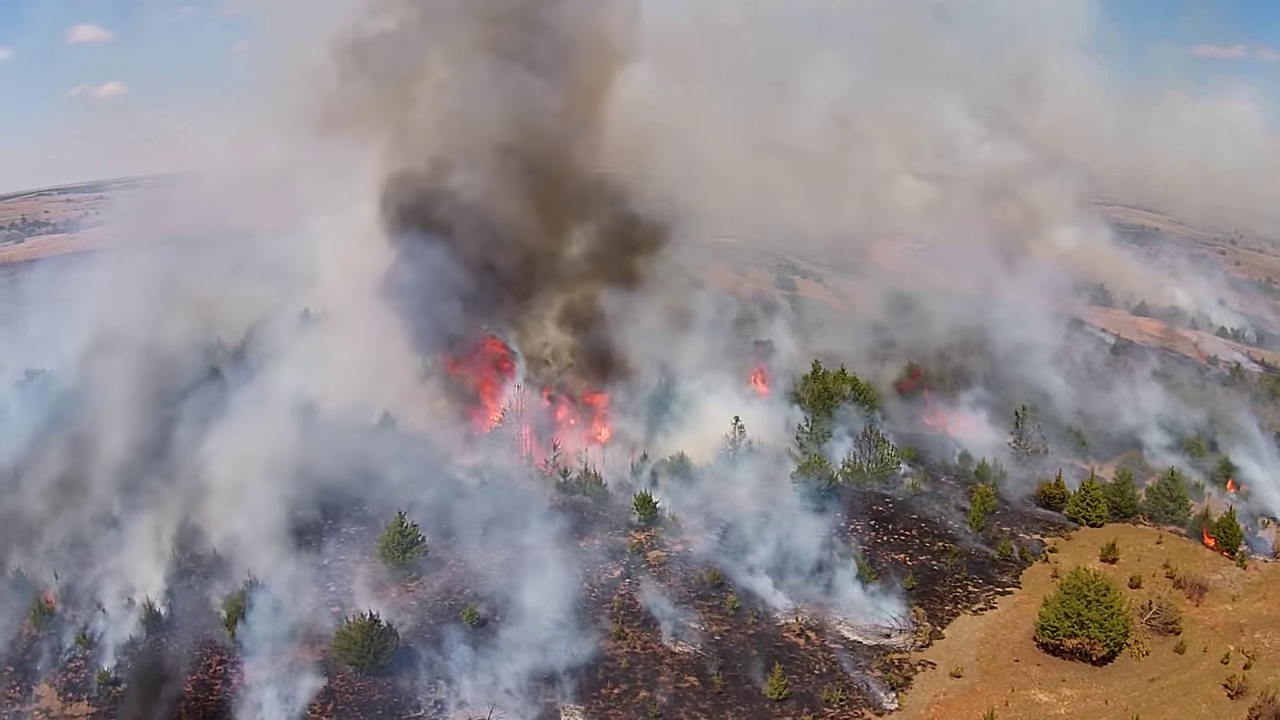forest_fire: (446, 333, 612, 460), (1201, 506, 1243, 556), (747, 339, 774, 397), (1225, 477, 1243, 498)
